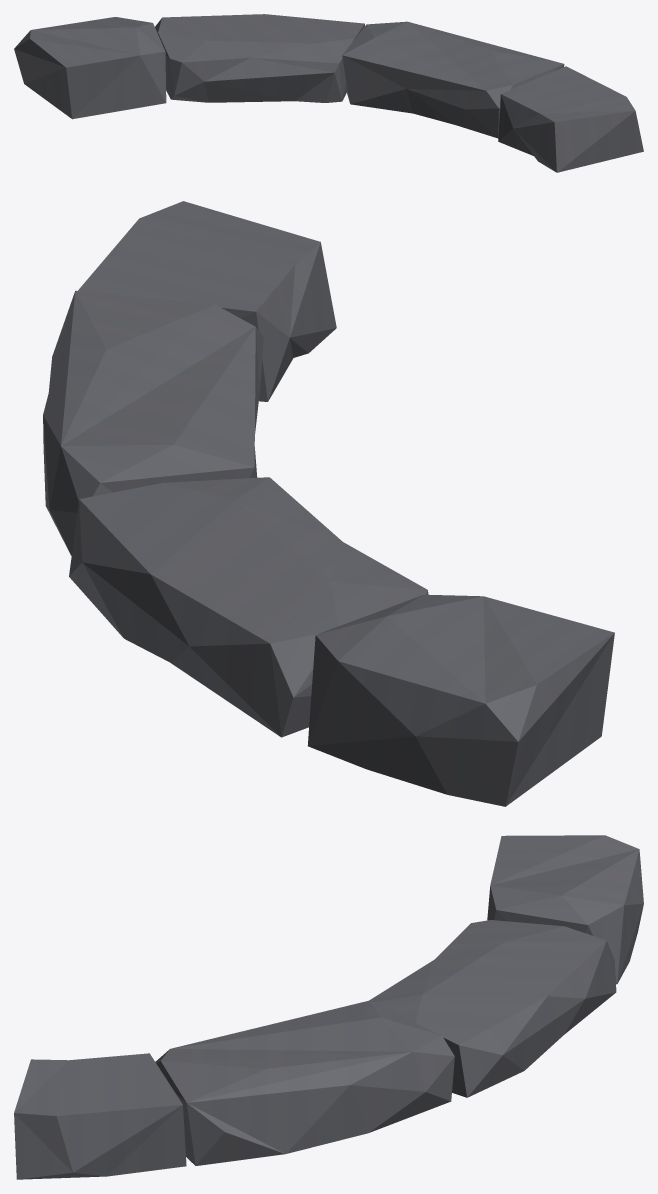
File: Road_1C.fbx
3 views of the same model, one above another, from view 1: azimuth 30°, elevation 25°; view 2: azimuth 150°, elevation 25°; view 3: azimuth 270°, elevation 25° (orthographic). The views are drawn at different scales.
Visible parts, largest first — view 1: polySurface10313; view 2: polySurface10313; view 3: polySurface10313.
Part boxes in pixels (<box>): polySurface10313: <box>14,14,643,172</box>; polySurface10313: <box>43,201,614,806</box>; polySurface10313: <box>14,835,643,1179</box>.
Size of the model in its own units: 239 by 31.63 by 231.
